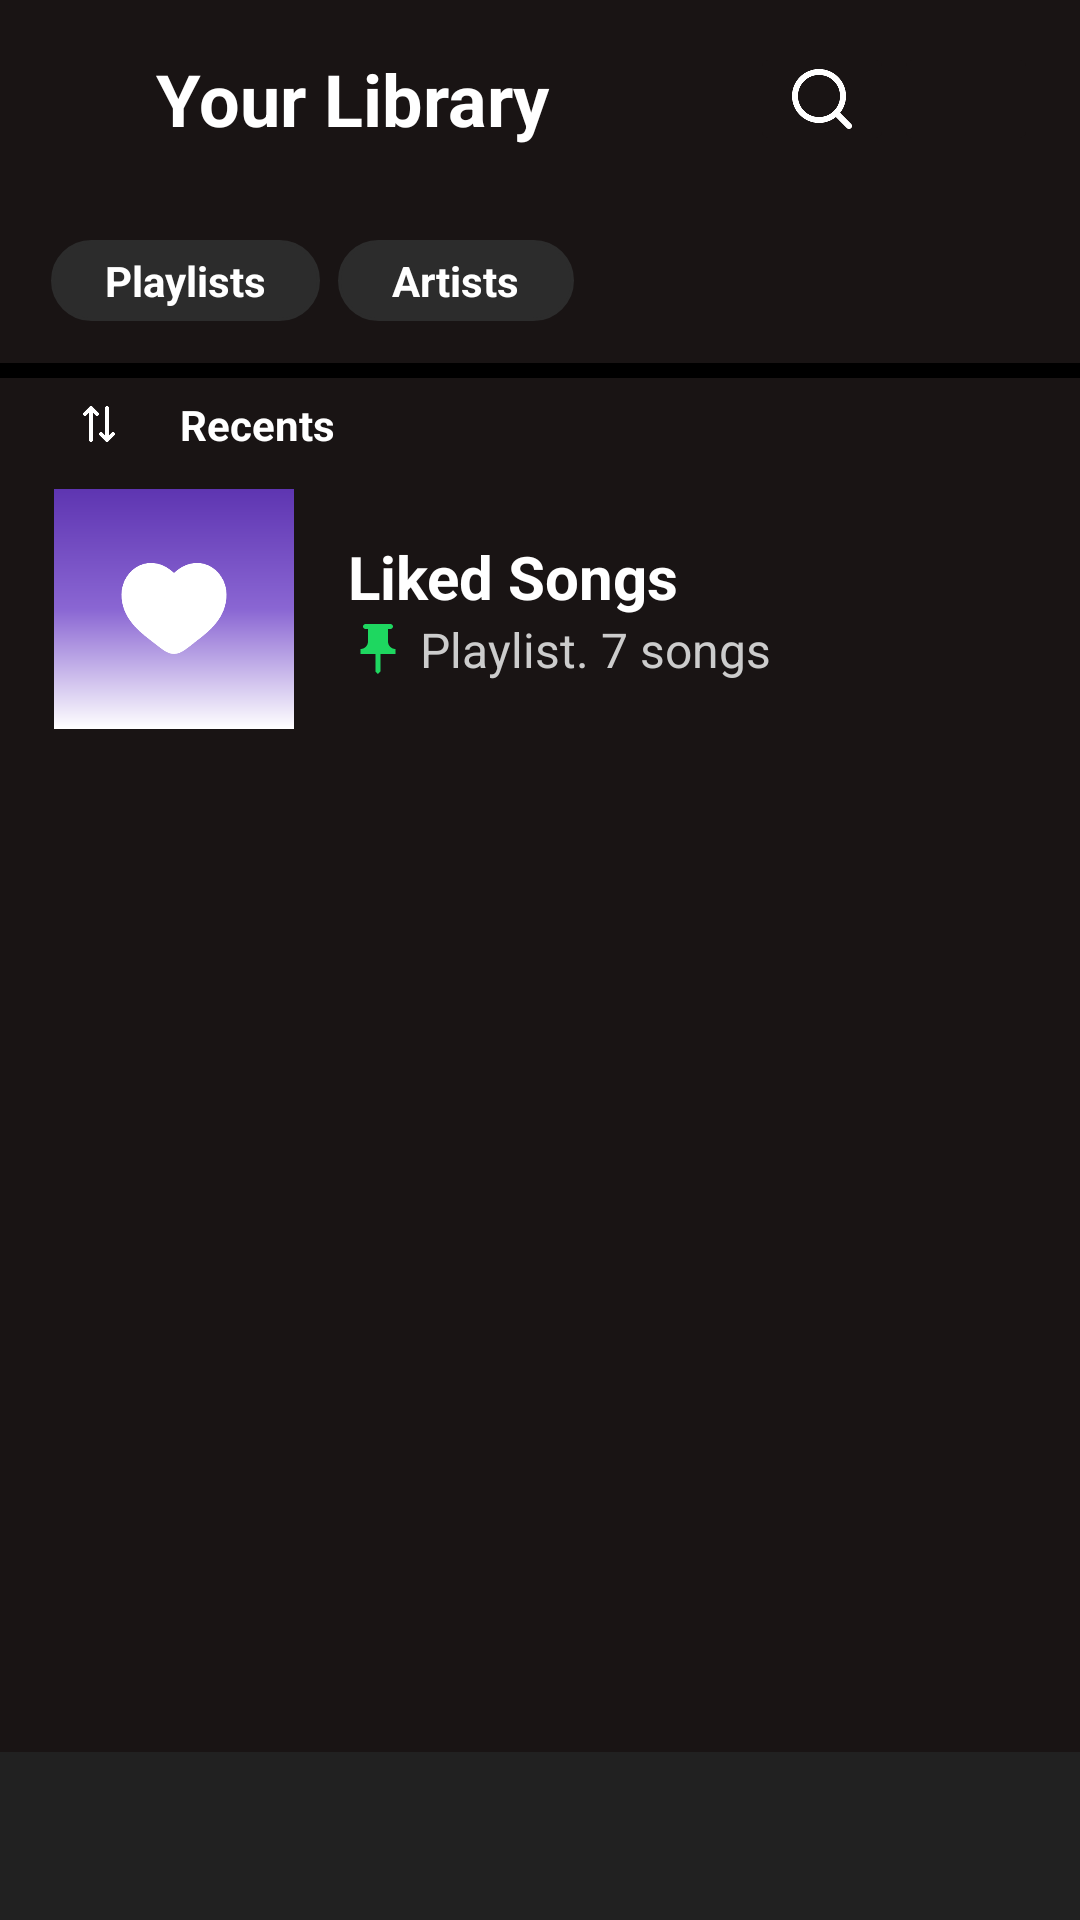

Icon bounding boxes for this 1080x1920 phone screenshot, format Rect(x1, y1, x2, y2):
heart: Rect(54, 489, 294, 729)
search: Rect(792, 69, 852, 129)
up down: Rect(83, 406, 115, 442)
